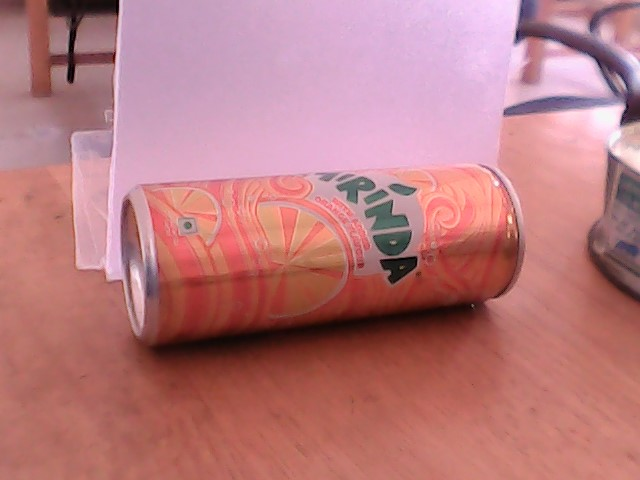Metal: (117, 184, 545, 333)
